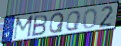2: (98, 5, 115, 29)
B: (31, 14, 48, 38)
M: (12, 14, 34, 41)
O: (82, 8, 98, 30)
Q: (48, 12, 65, 35), (65, 10, 82, 32)
